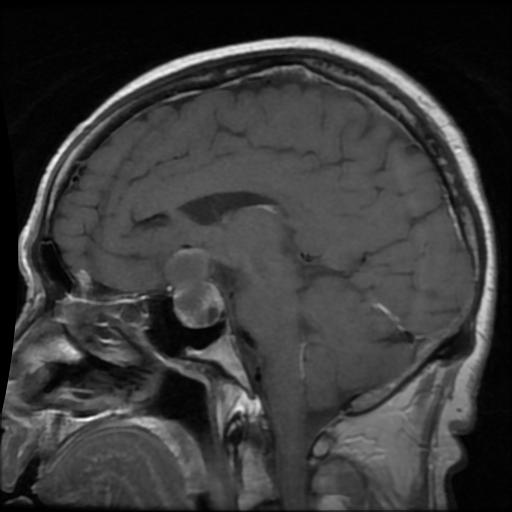Pituirity_tumour: (163, 247, 225, 327)
